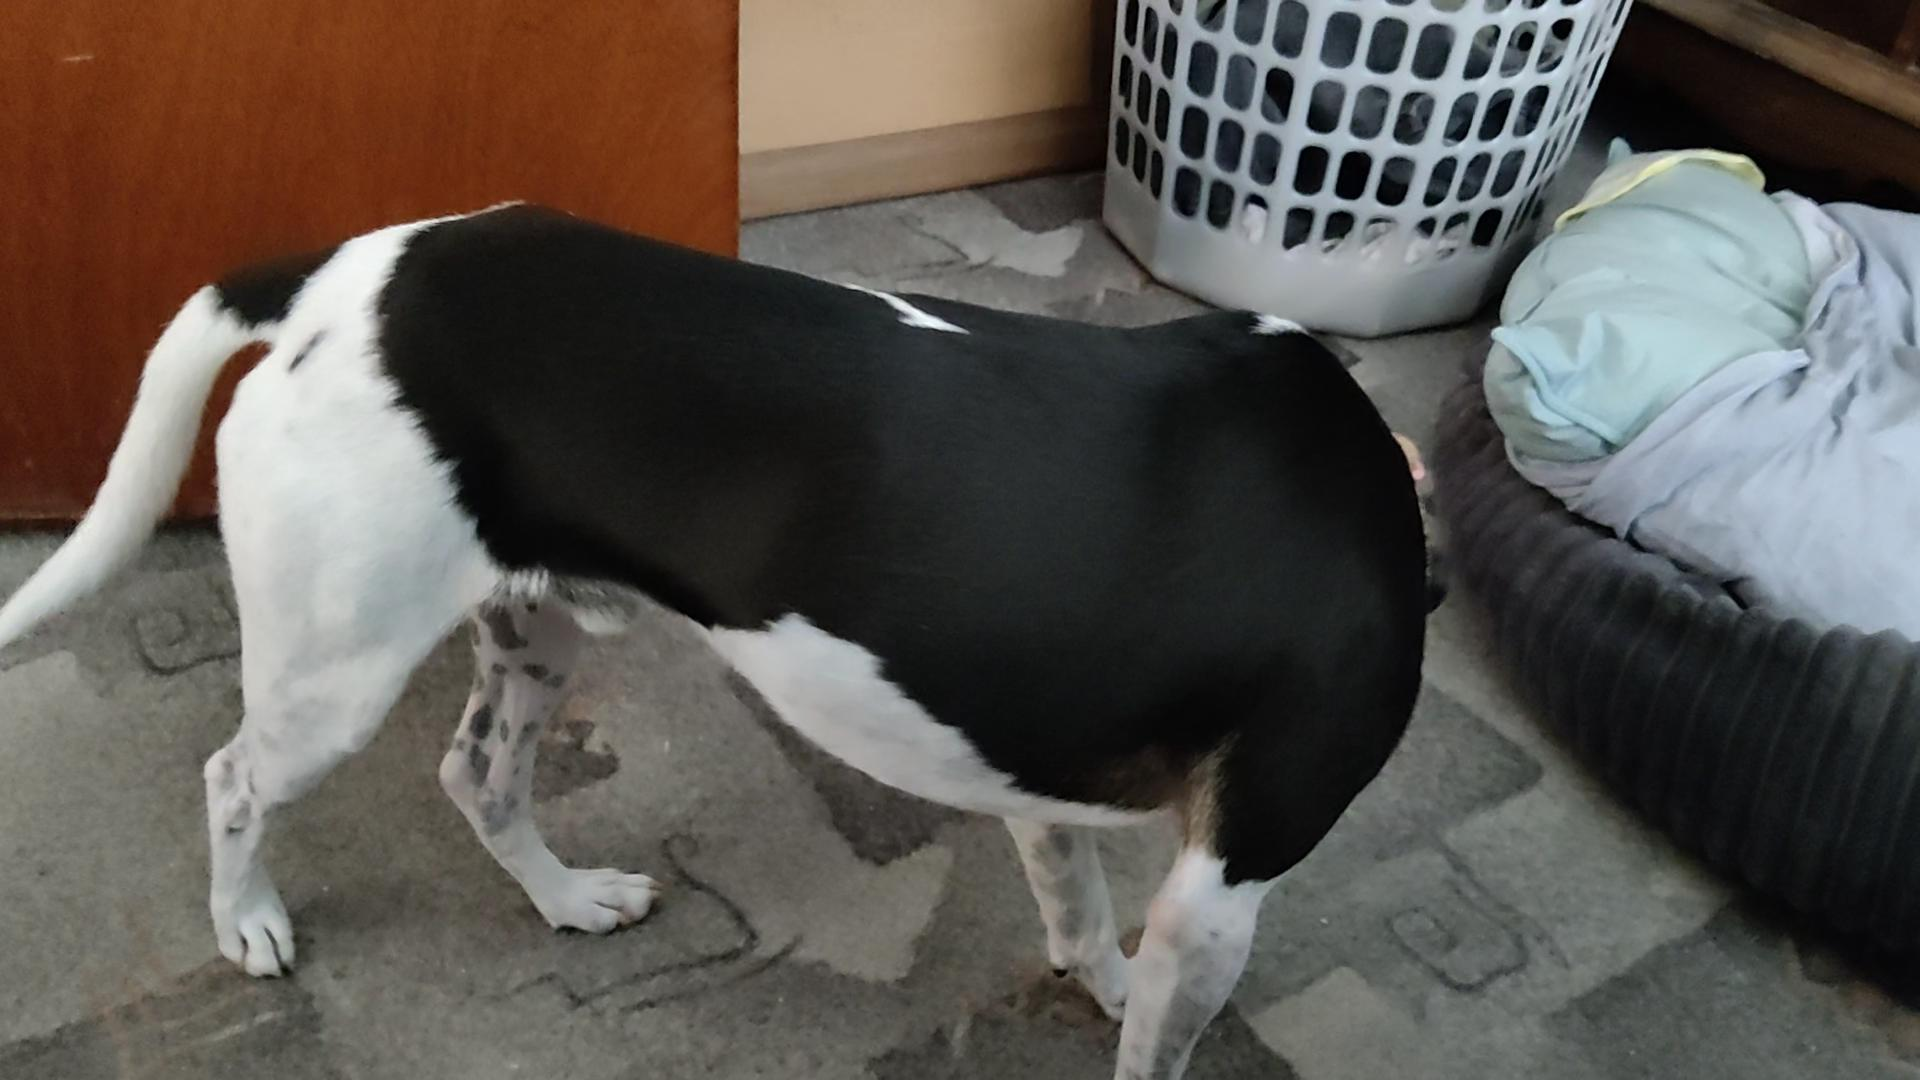Dog: (0, 193, 1456, 1079)
